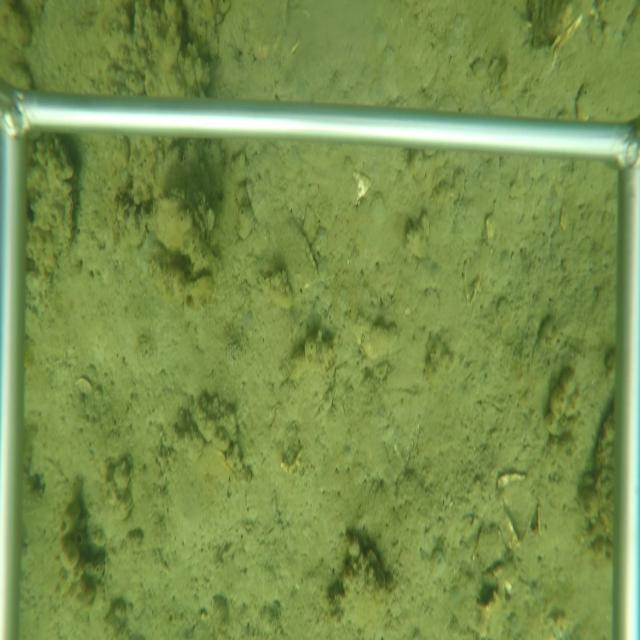Oyster-Closed: (146, 195, 221, 275)
Oyster-Indeterminate: (33, 138, 78, 278), (277, 215, 322, 294)
